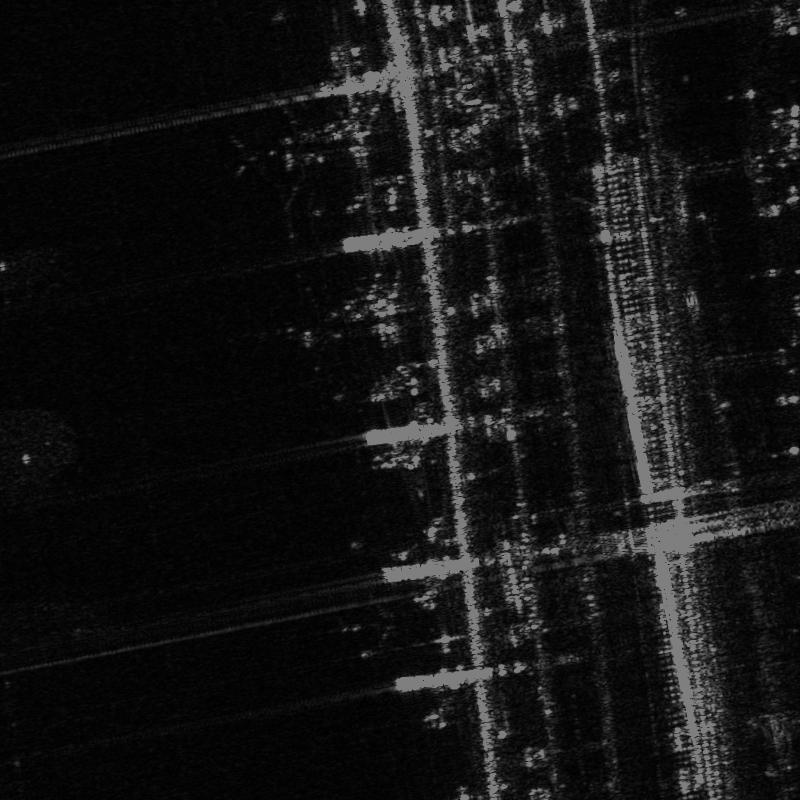A220: (332, 585, 419, 663)
other: (227, 261, 355, 395), (226, 83, 348, 221)
